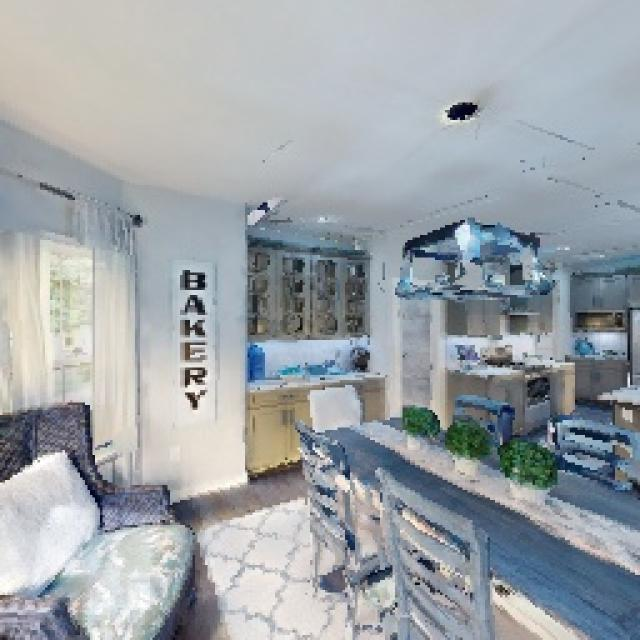chair: (292, 413, 408, 640)
sofa: (0, 379, 193, 640)
table: (297, 374, 640, 640)
